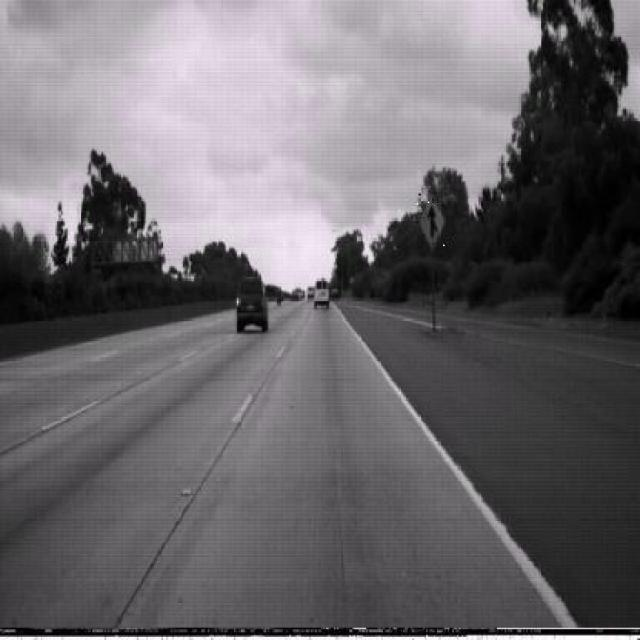merge: (417, 192, 446, 250)
